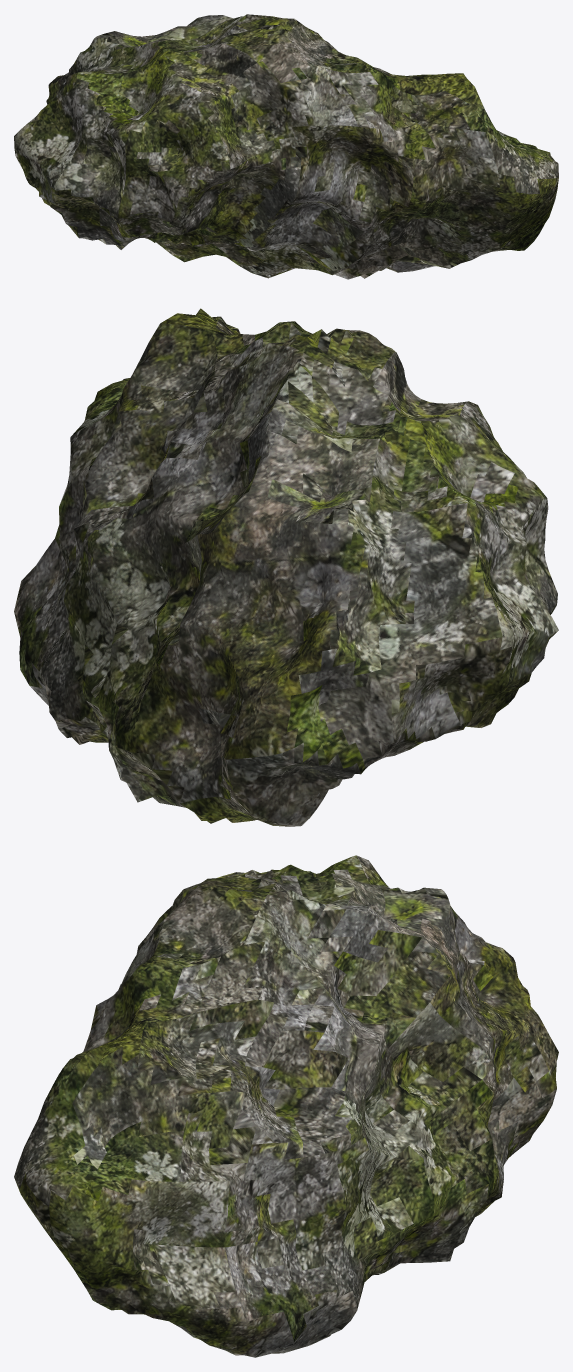
File: rock5.glb
3 renders of one model, top to bottom at view 1: azimuth 30°, elevation 25°; view 2: azimuth 150°, elevation 25°; view 3: azimuth 270°, elevation 25°, orthographic. The views are drawn at different scales.
Visible parts, largest first — view 1: Cube; view 2: Cube; view 3: Cube.
Boxes of the visible parts, left/top/right/bottom form: Cube: left=14, top=14, right=558, bottom=279; Cube: left=14, top=308, right=558, bottom=826; Cube: left=14, top=855, right=558, bottom=1357.
Size of the model in its own units: 8.73 by 5.97 by 7.86.
Materials: 1 (1 with a texture image).
